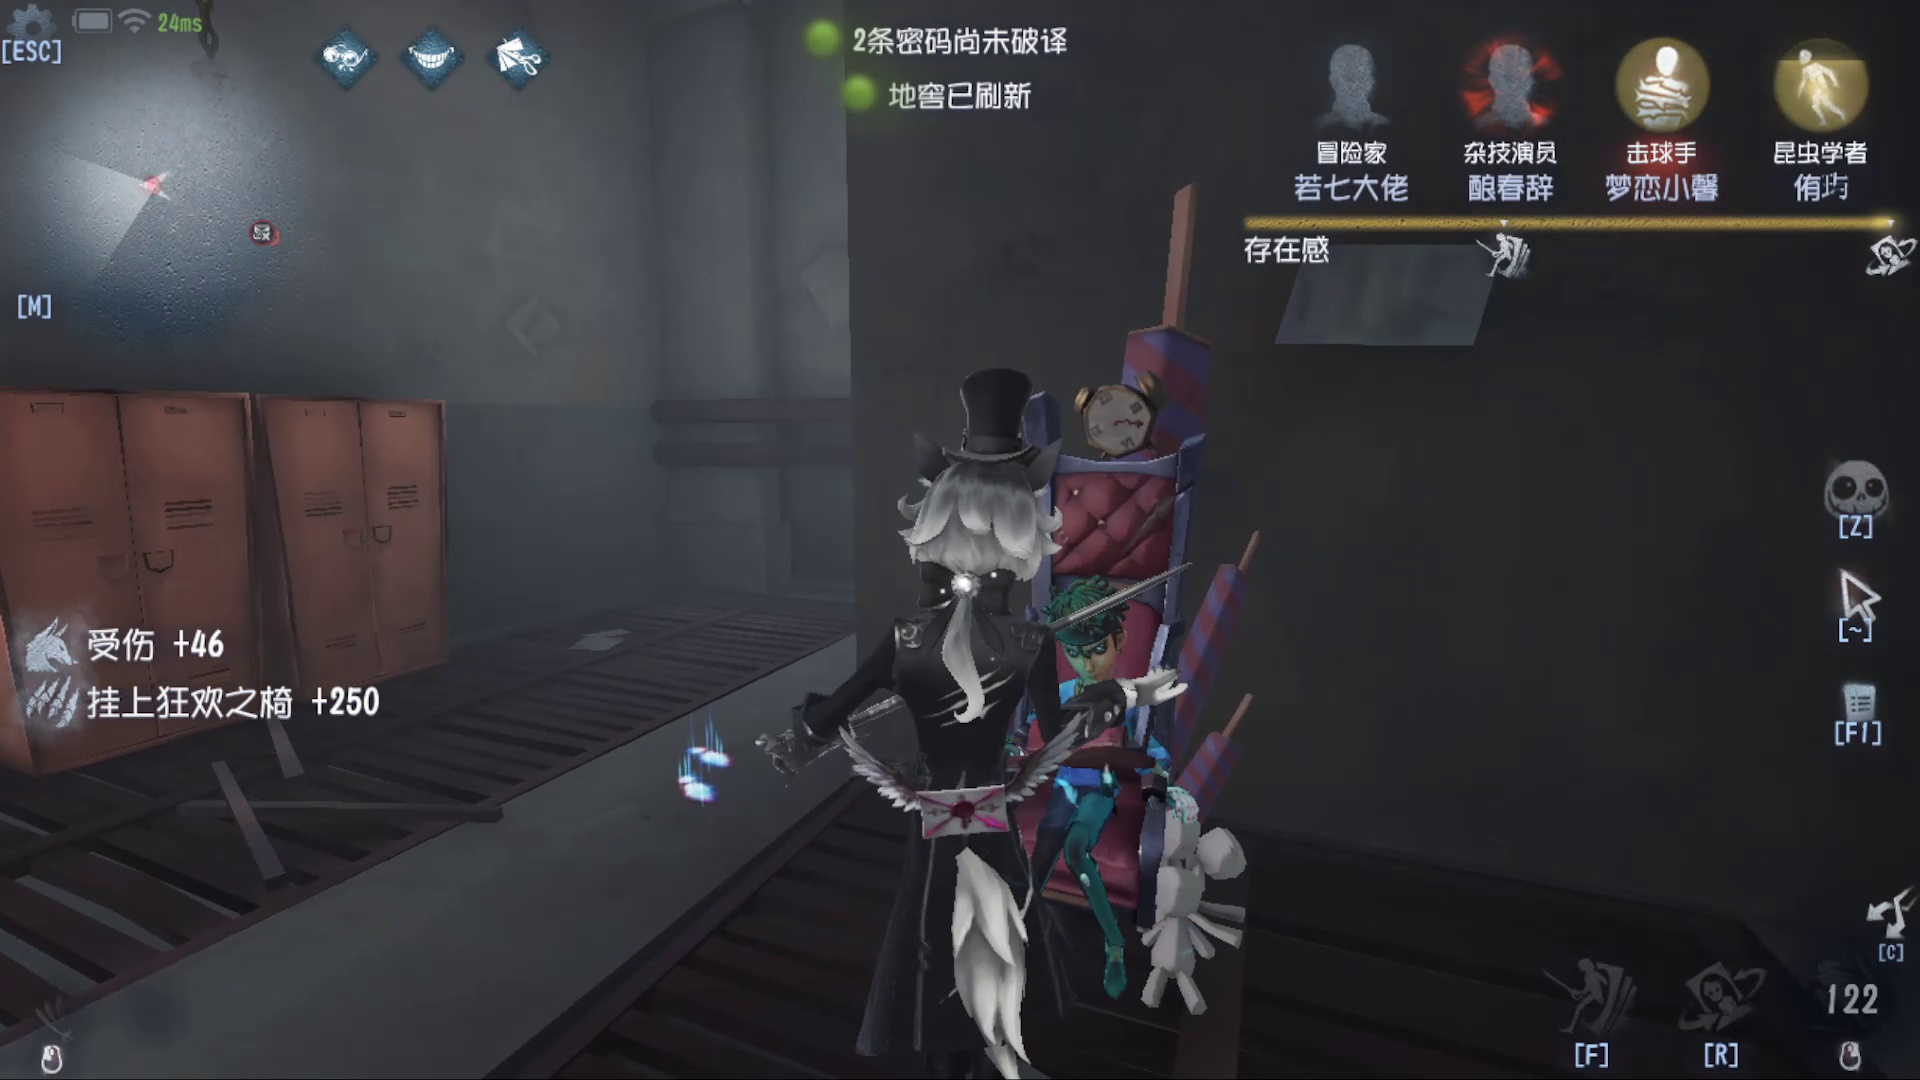求生者: (1038, 585, 1176, 845)
狂欢之椅: (978, 274, 1309, 952)
